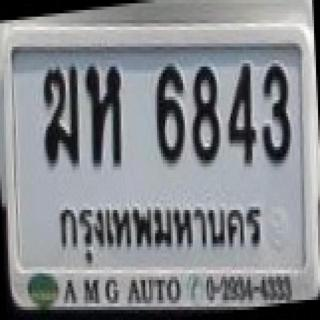A06: (41, 61, 82, 169)
A41: (81, 61, 129, 172)
N06: (151, 57, 188, 166), (189, 59, 225, 165)
